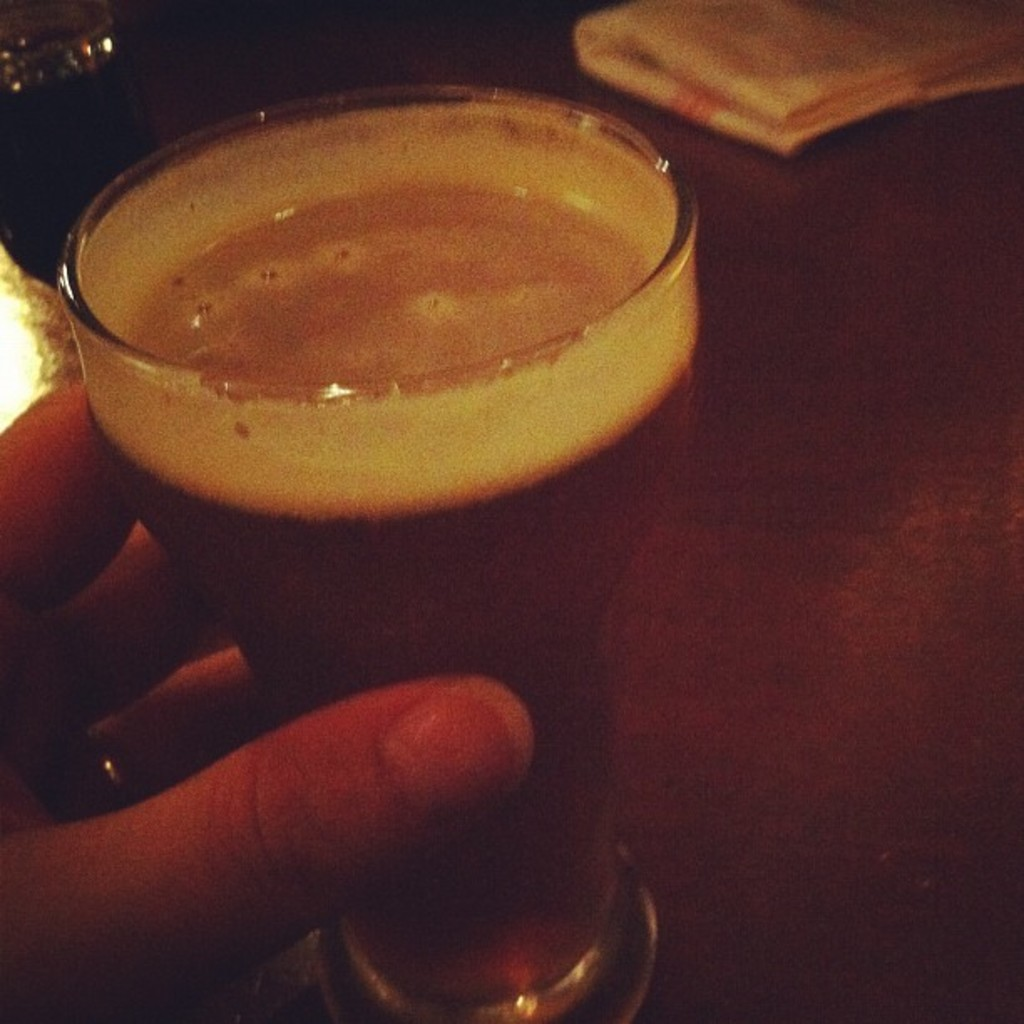Beer: (16, 73, 739, 1022)
